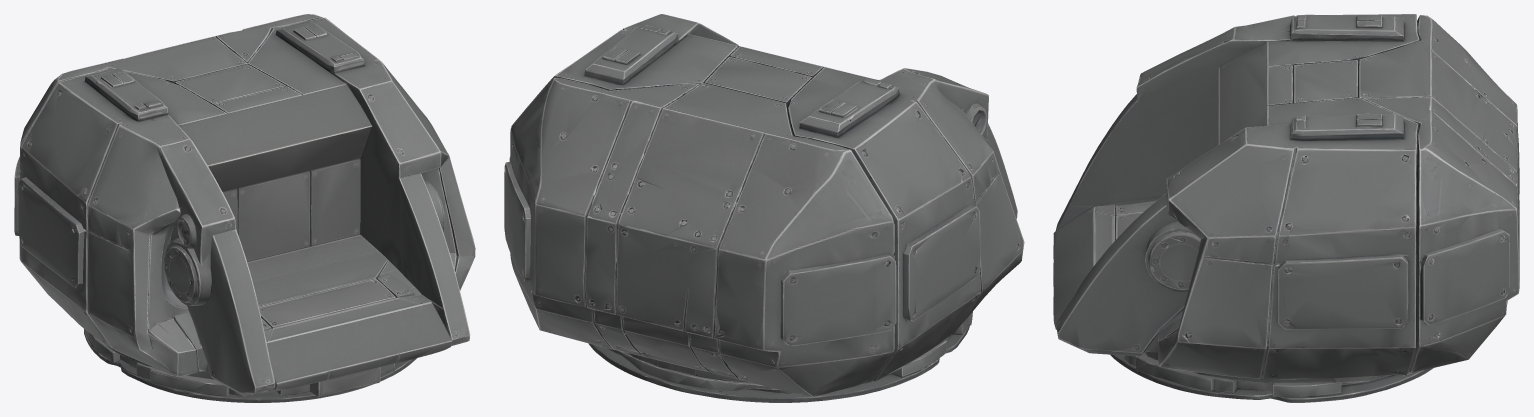
File: shared_flak_tower_large_option__turret_head.glb
The picture shows the model from 3 angles, left to right: view 1: azimuth 30°, elevation 25°; view 2: azimuth 150°, elevation 25°; view 3: azimuth 270°, elevation 25°; orthographic projection. The views are drawn at different scales.
Visible parts, largest first — view 1: mesh_node; view 2: mesh_node; view 3: mesh_node.
Part boxes in pixels (box(x1,y1,x2,y2)): mesh_node: box(14, 14, 475, 402); mesh_node: box(504, 14, 1024, 402); mesh_node: box(1053, 14, 1519, 402).
Bounding box in the file's own units: 5.18 × 3.38 × 5.55.
1 material, 1 textured.
